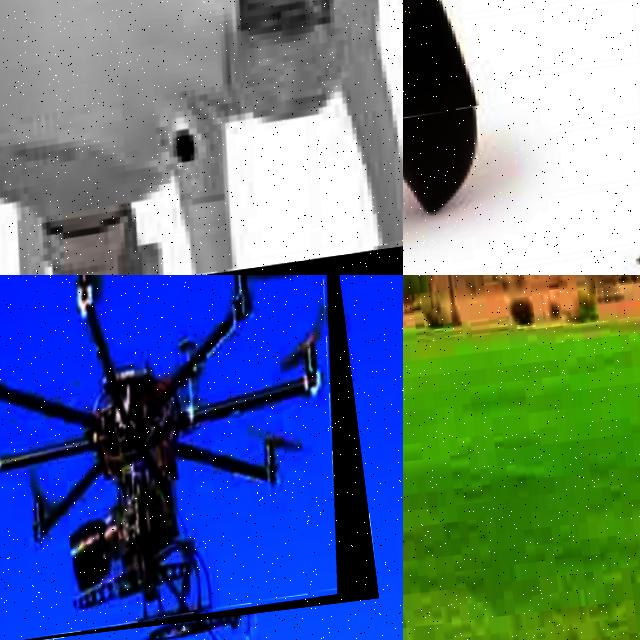0: (0, 275, 378, 640)
drone: (0, 0, 403, 275), (403, 46, 640, 275)
